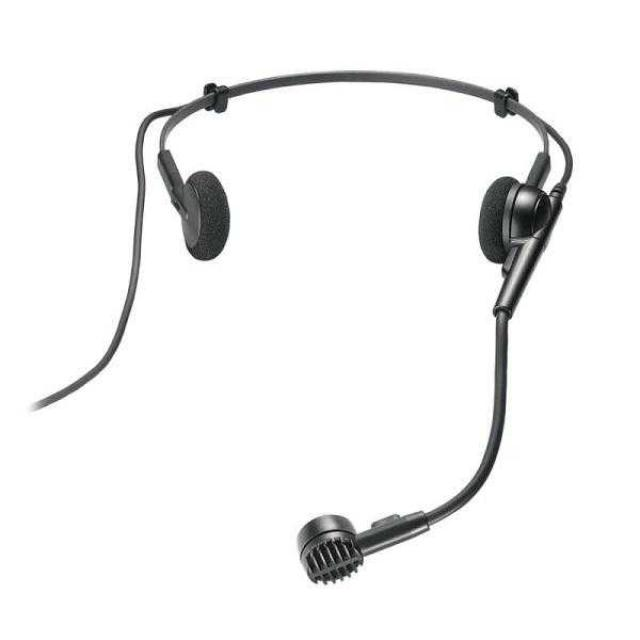microphone: (284, 502, 434, 590)
